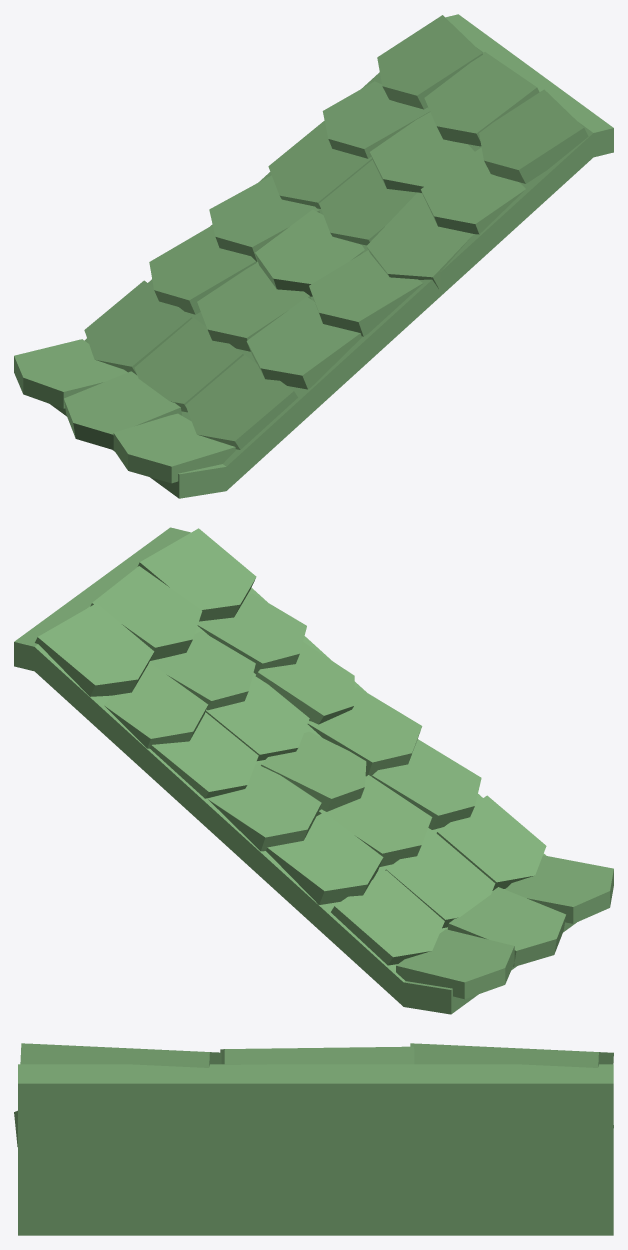
File: Roof_house01.fbx
The picture shows the model from 3 angles, top to bottom: view 1: azimuth 30°, elevation 25°; view 2: azimuth 150°, elevation 25°; view 3: azimuth 270°, elevation 25°; orthographic projection. The views are drawn at different scales.
Visible parts, largest first — view 1: Roof; view 2: Roof; view 3: Roof.
Part boxes in pixels (<box>): Roof: <box>14,14,613,498</box>; Roof: <box>14,527,613,1014</box>; Roof: <box>14,1043,613,1235</box>.
Size of the model in its own units: 597 by 340 by 351.
